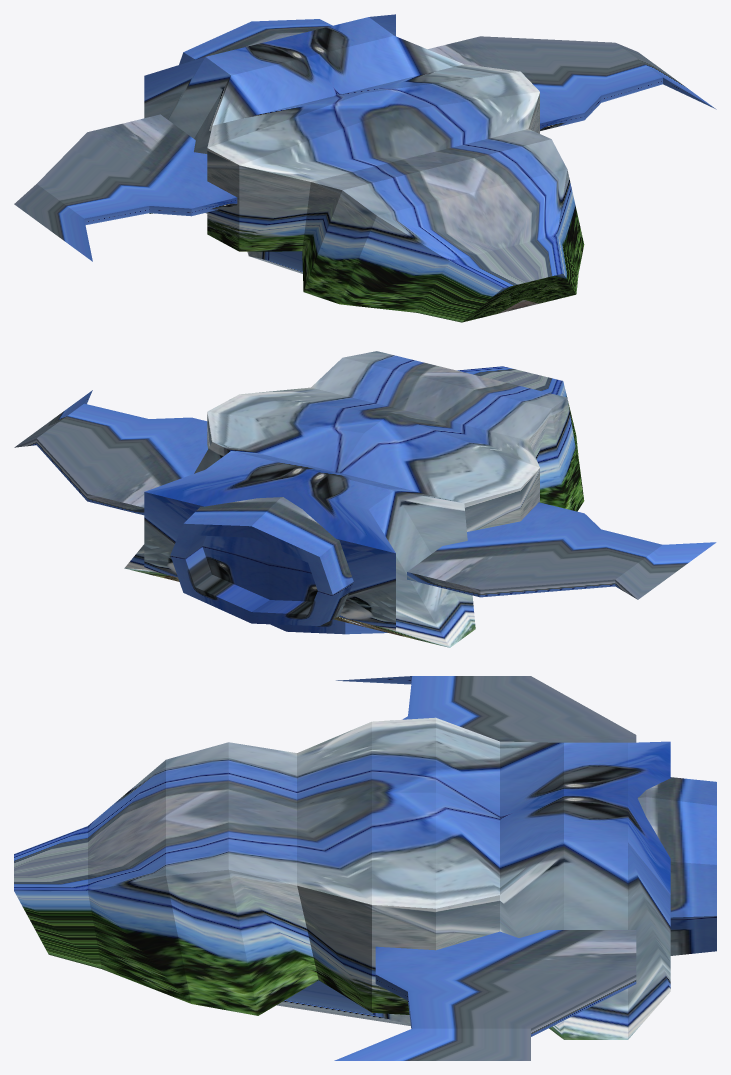
Rendered from spaceship0.obj.
3 renders of one model, top to bottom at view 1: azimuth 30°, elevation 25°; view 2: azimuth 150°, elevation 25°; view 3: azimuth 270°, elevation 25°, orthographic. The views are drawn at different scales.
Parts seen in each view (by area): view 1: M3_Ship_1_Cube.081; view 2: M3_Ship_1_Cube.081; view 3: M3_Ship_1_Cube.081.
Boxes of the visible parts, box(x1,y1,x2,y2) form: M3_Ship_1_Cube.081: box(14, 14, 716, 322); M3_Ship_1_Cube.081: box(14, 351, 716, 647); M3_Ship_1_Cube.081: box(14, 676, 716, 1060).
Bounding box in the file's own units: 1 × 0.2347 × 0.7814.
1 material, 1 textured.
